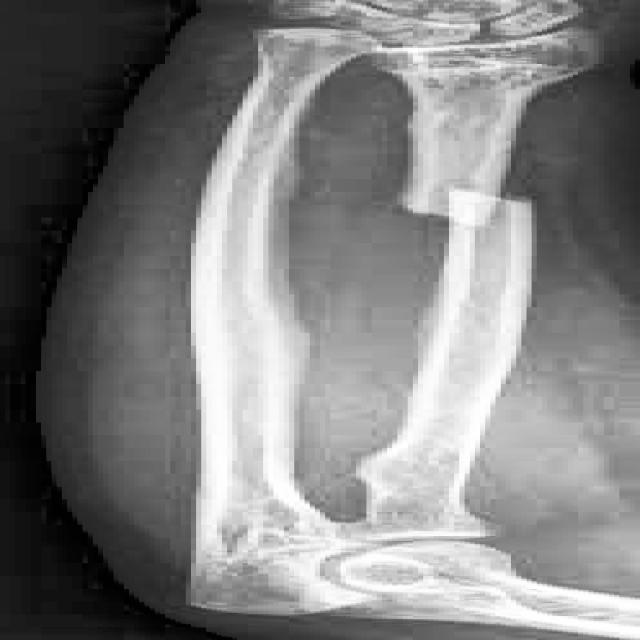Fracture Dislocation: (397, 176, 548, 248)
